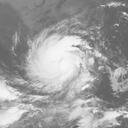cyclone: (24, 29, 98, 96)
